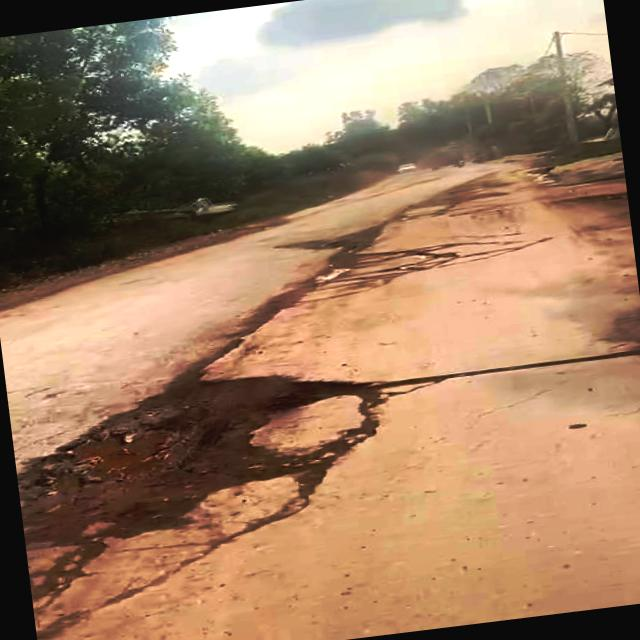pothole: (7, 348, 420, 566)
